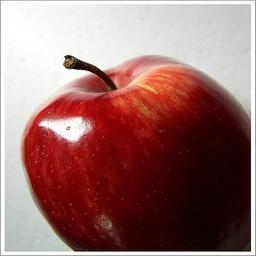apple: (21, 53, 251, 252)
